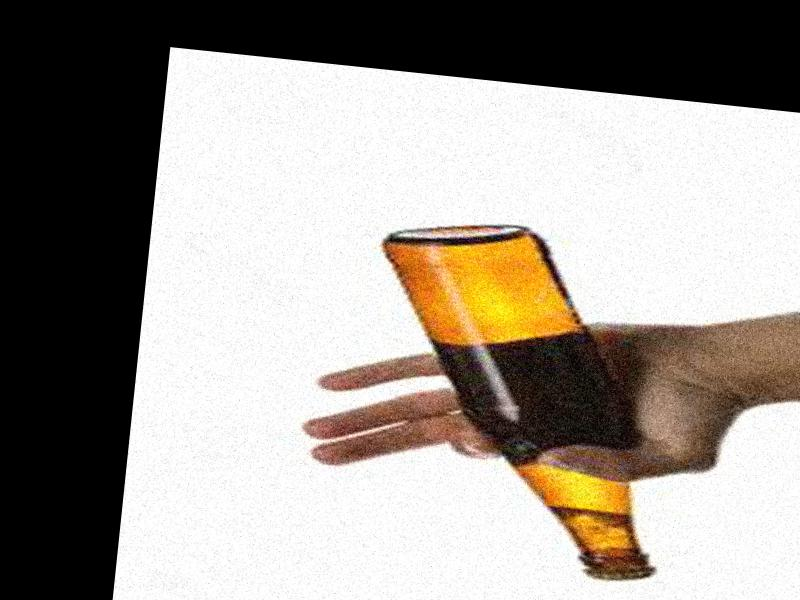Beer: (360, 214, 682, 576)
